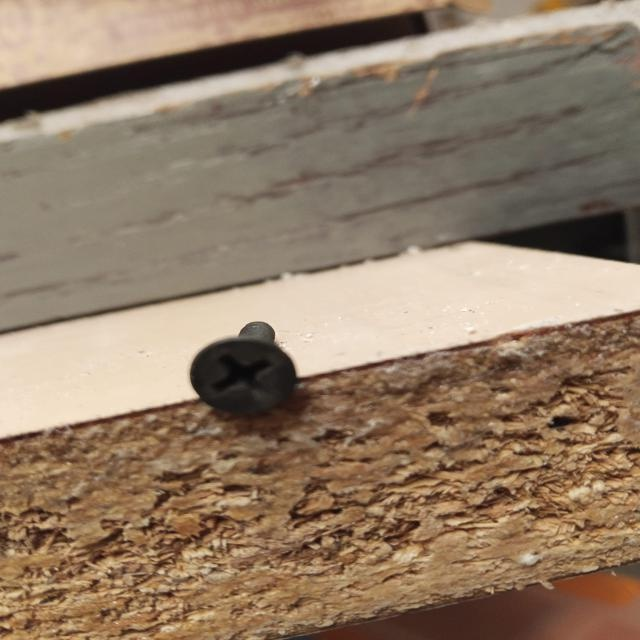phillips: (189, 338, 299, 418)
